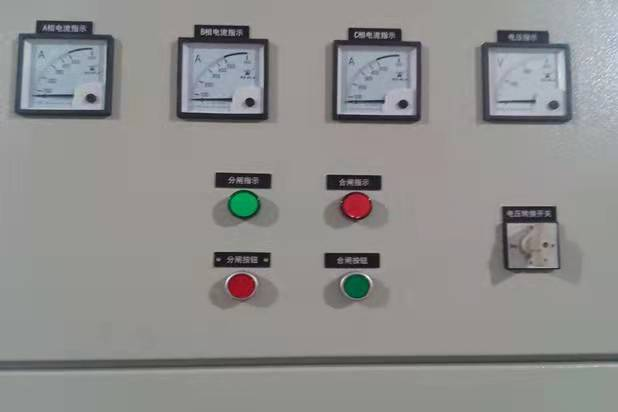pointer: (17, 34, 109, 111), (179, 39, 266, 115), (335, 40, 419, 117), (485, 43, 569, 117)
